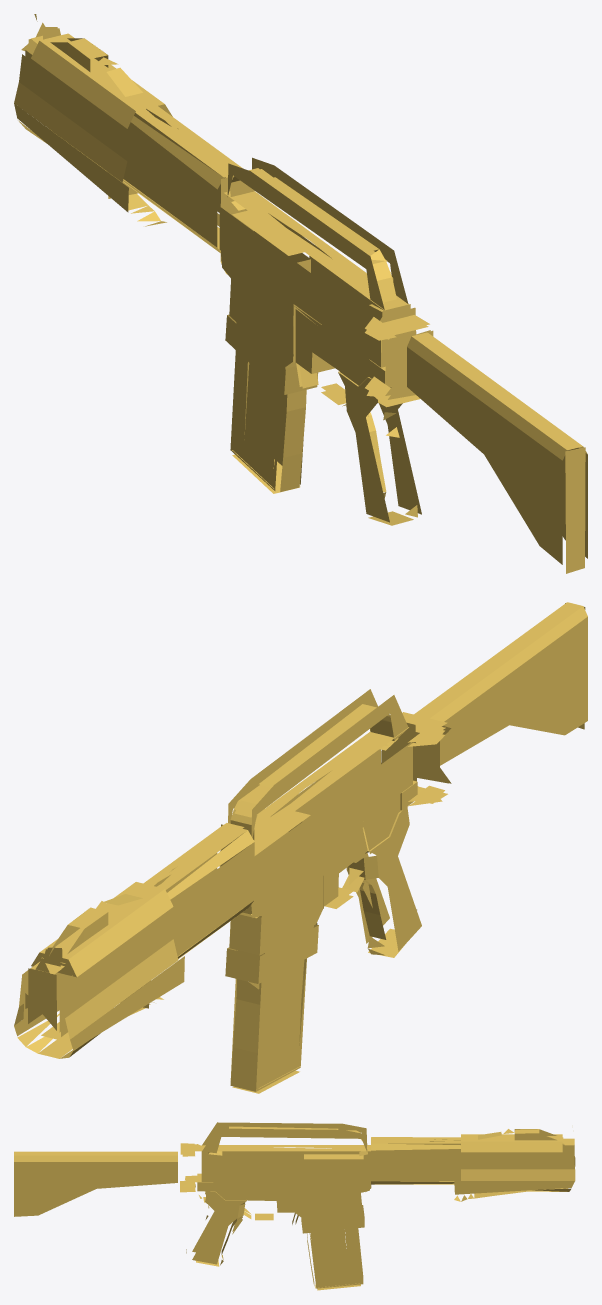
Rendered from charm_mst_shotgun_5.glb.
3 views of the same model, one above another, from view 1: azimuth 30°, elevation 25°; view 2: azimuth 150°, elevation 25°; view 3: azimuth 270°, elevation 25° (orthographic). The views are drawn at different scales.
Parts seen in each view (by area): view 1: p0_paint; view 2: p0_paint; view 3: p0_paint.
Part boxes in pixels (bbox=[...]): p0_paint: bbox=[14, 14, 587, 573]; p0_paint: bbox=[14, 602, 587, 1093]; p0_paint: bbox=[14, 1122, 575, 1290].
Size of the model in its own units: 0.0606 by 0.2694 by 0.8676.
